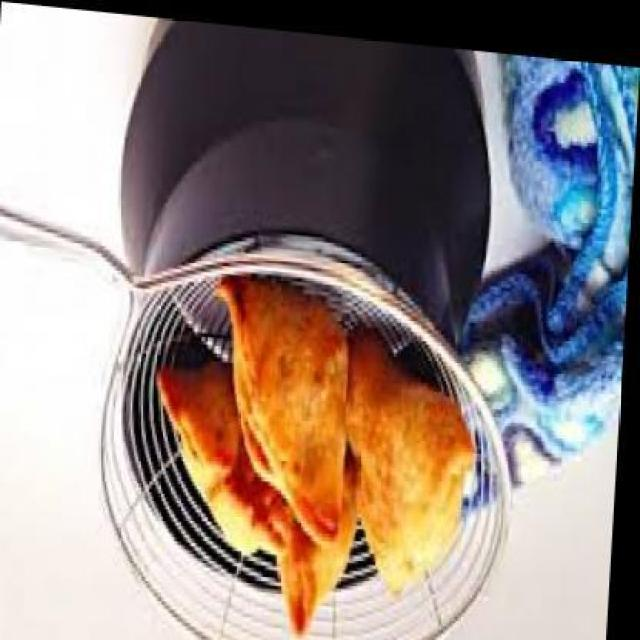samosa: (205, 264, 357, 538), (340, 320, 485, 591), (152, 349, 306, 551), (279, 424, 366, 634)
